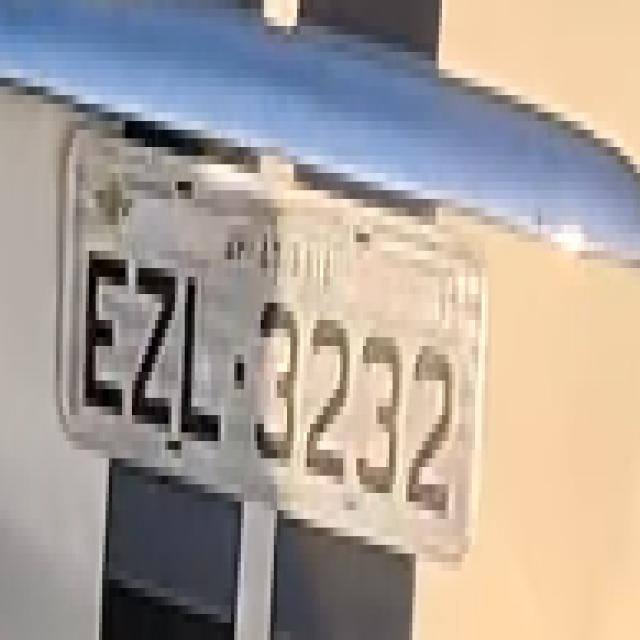Placa_mercosul_carro: (57, 120, 490, 569)
